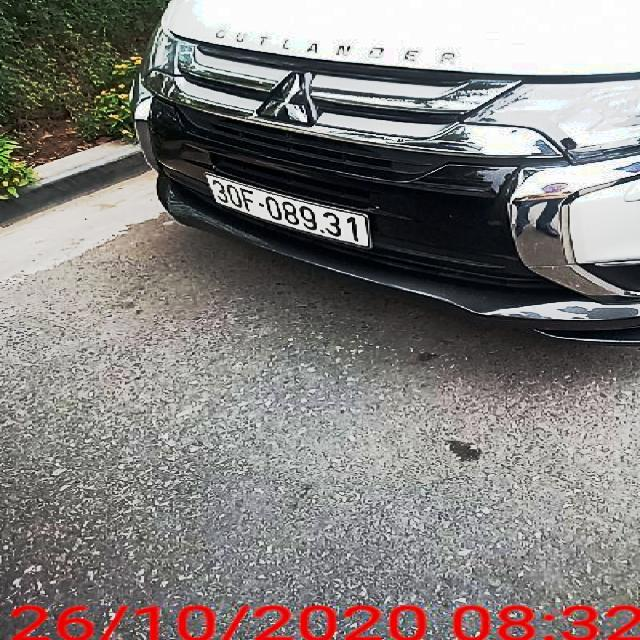license_plate: (208, 175, 370, 249)
